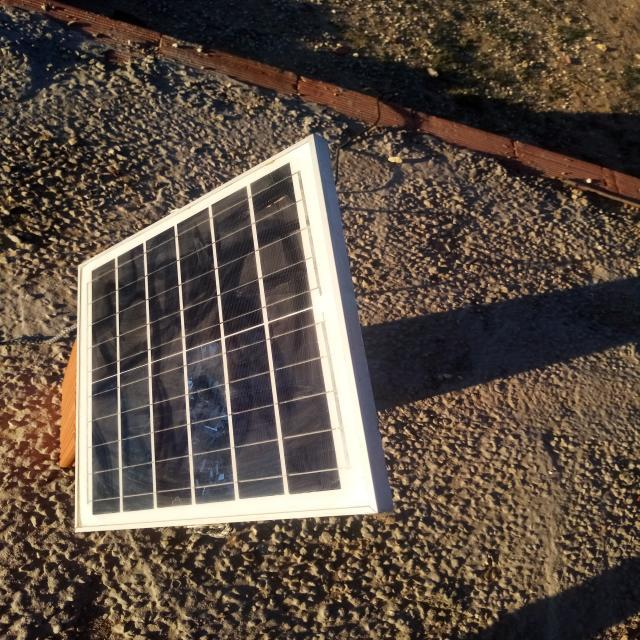faulty: (74, 137, 377, 525)
